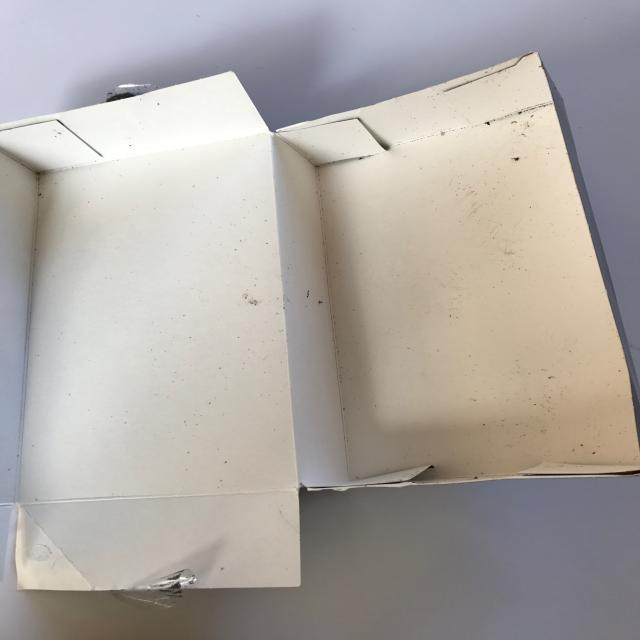paper: (2, 51, 638, 592)
